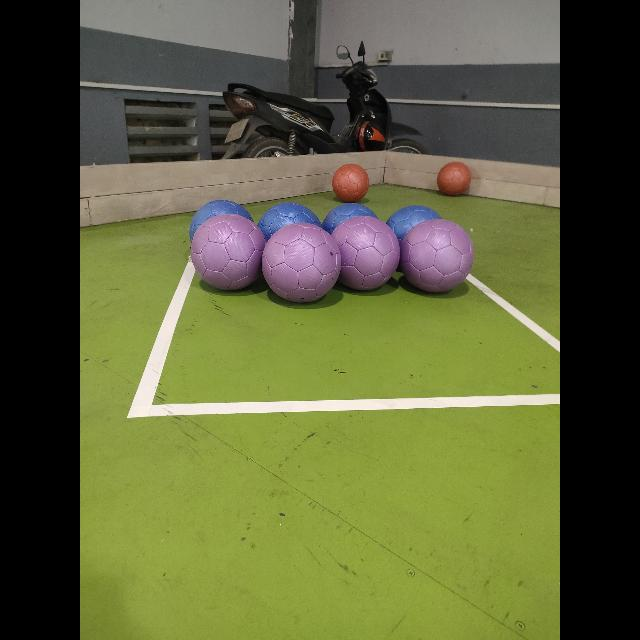B: (188, 200, 252, 242), (257, 202, 321, 240), (386, 206, 440, 240), (322, 202, 378, 234)
P: (262, 224, 341, 302), (328, 214, 402, 296), (190, 214, 266, 290), (399, 218, 473, 292)
R: (332, 164, 370, 202), (437, 162, 471, 194)
